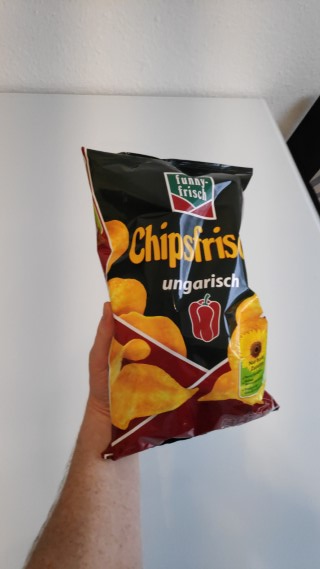chipsfrisch: (78, 144, 282, 462)
